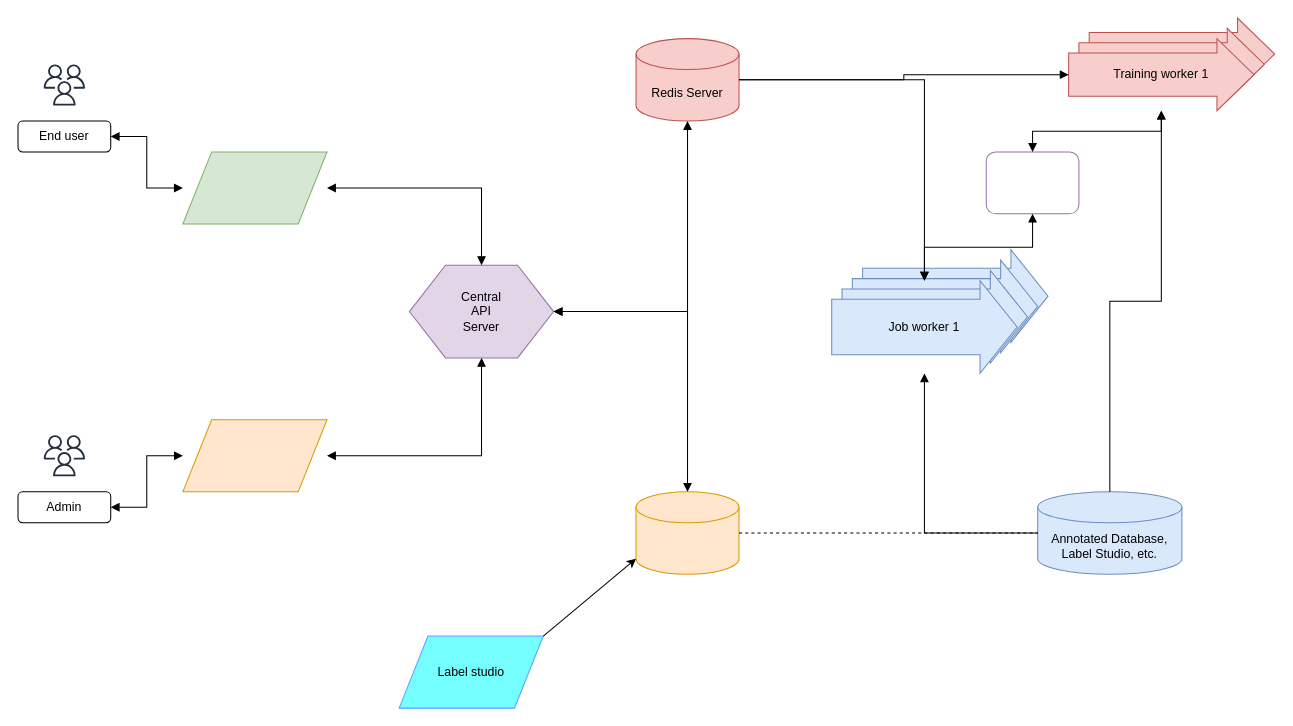
This 1293x726 diagram has some shape labels left out. The shapes that lost their labels are listed below. From the top down, each one's centre as x and y in pixels, then its label:
the point at 254,187: Inference Channel
the point at 1032,182: Model
the point at 254,455: Management Channel
the point at 687,532: PostgreSQL
